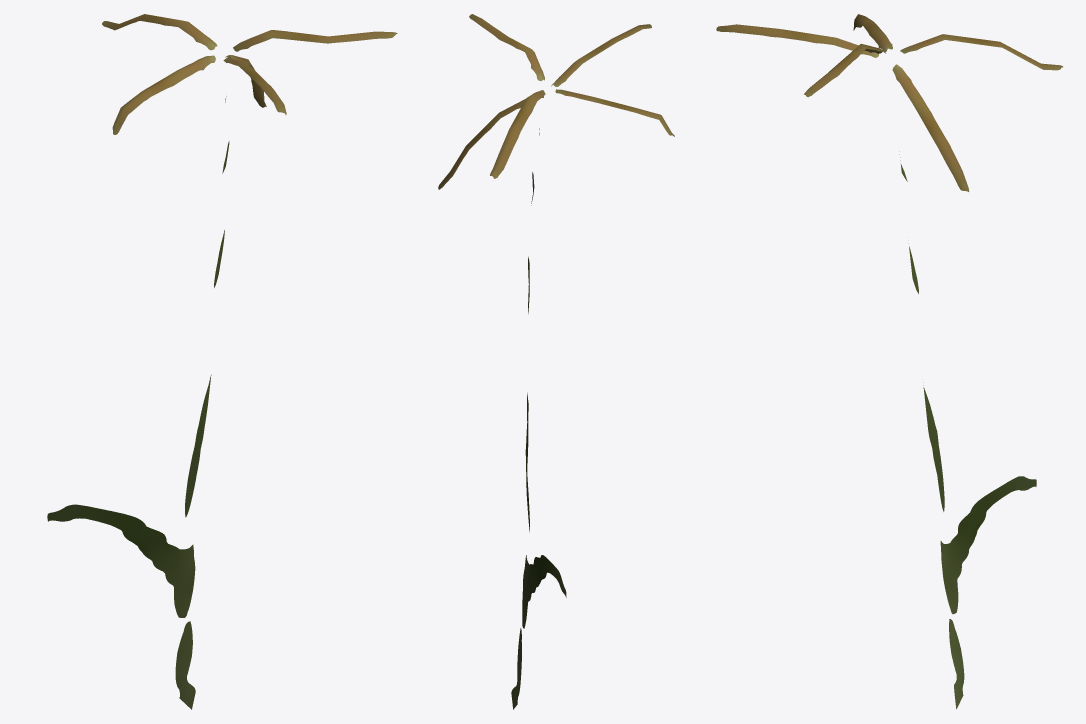
The picture shows the model from 3 angles, left to right: view 1: azimuth 30°, elevation 25°; view 2: azimuth 150°, elevation 25°; view 3: azimuth 270°, elevation 25°; orthographic projection. The views are drawn at different scales.
Visible parts, largest first — view 1: grass_bermuda_01__c_lod1; view 2: grass_bermuda_01__c_lod1; view 3: grass_bermuda_01__c_lod1.
Part boxes in pixels (x1,y1,x2,y2): grass_bermuda_01__c_lod1: (47, 14, 397, 709); grass_bermuda_01__c_lod1: (438, 14, 674, 709); grass_bermuda_01__c_lod1: (716, 14, 1062, 709).
Bounding box in the file's own units: 0.0372 × 0.0923 × 0.0445.
1 material, 1 textured.
